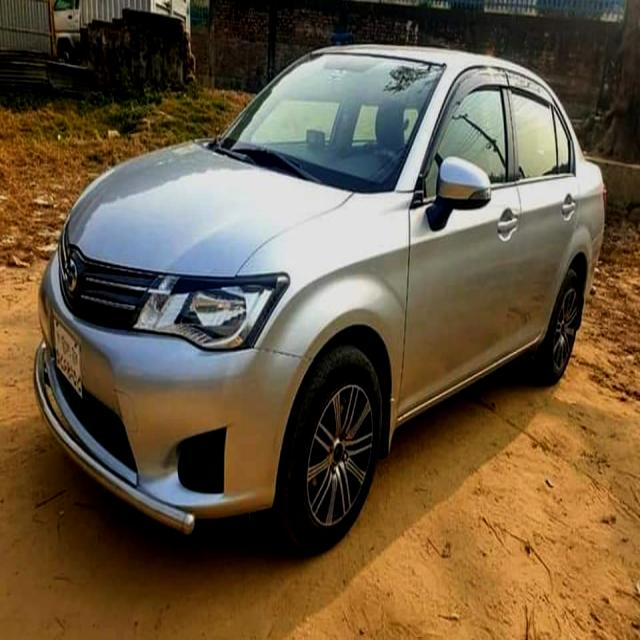silver: (41, 54, 608, 571)
